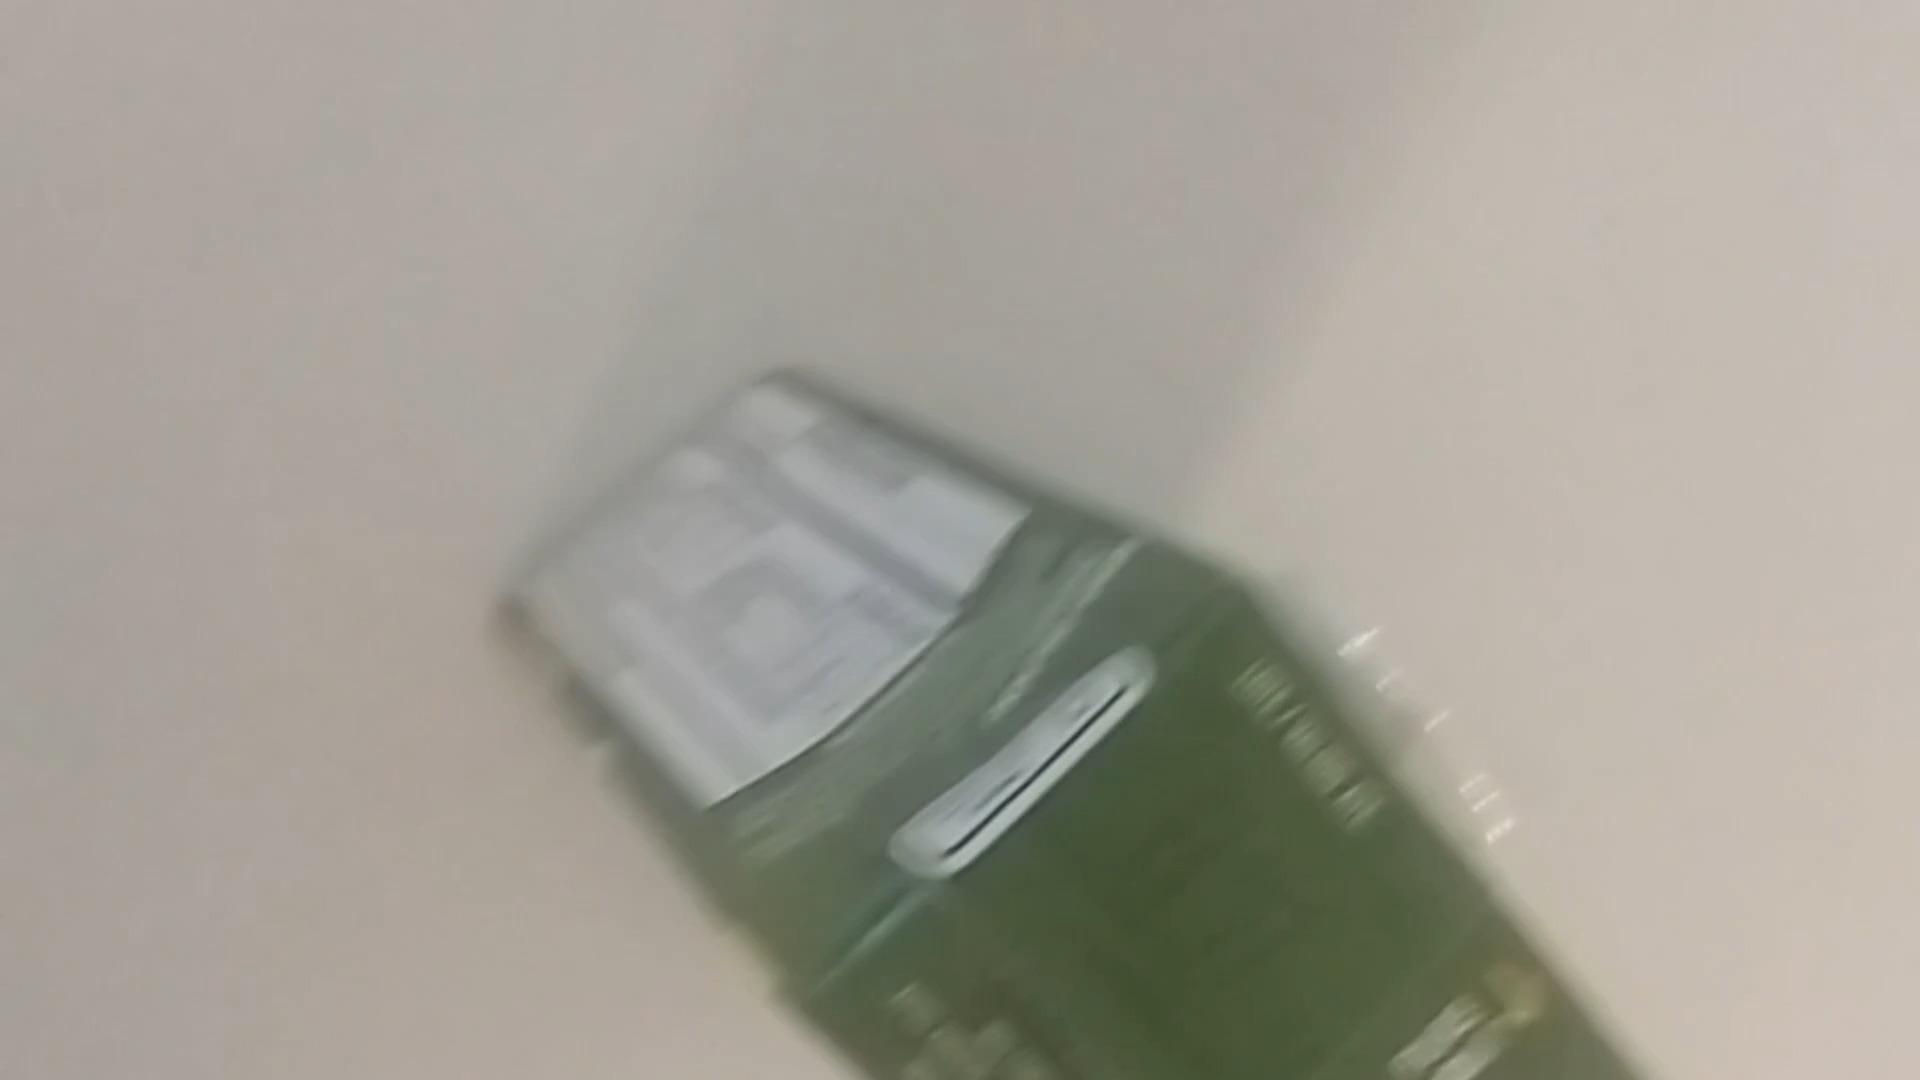coco: (505, 363, 1643, 1080)
